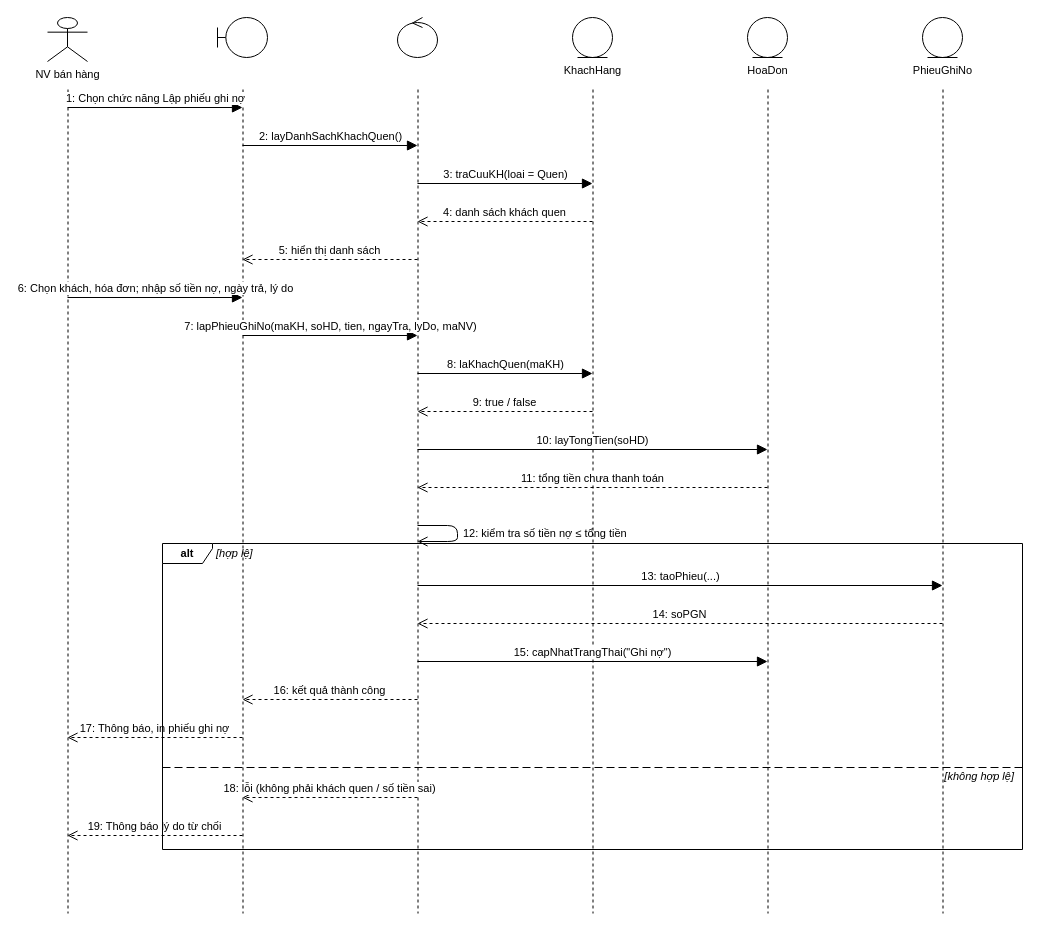
The diagram is 1041 pixels wide and 931 high, and some of its shapes have lost their labels. Here are the shapes that lost their labels. From the top down, the box of each, then its label:
(216, 16, 268, 58): FrmPhieuGhiNo
(396, 16, 438, 58): PhieuGhiNoController
